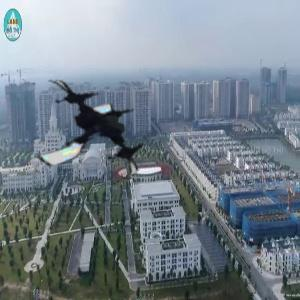drone: (17, 67, 149, 199)
